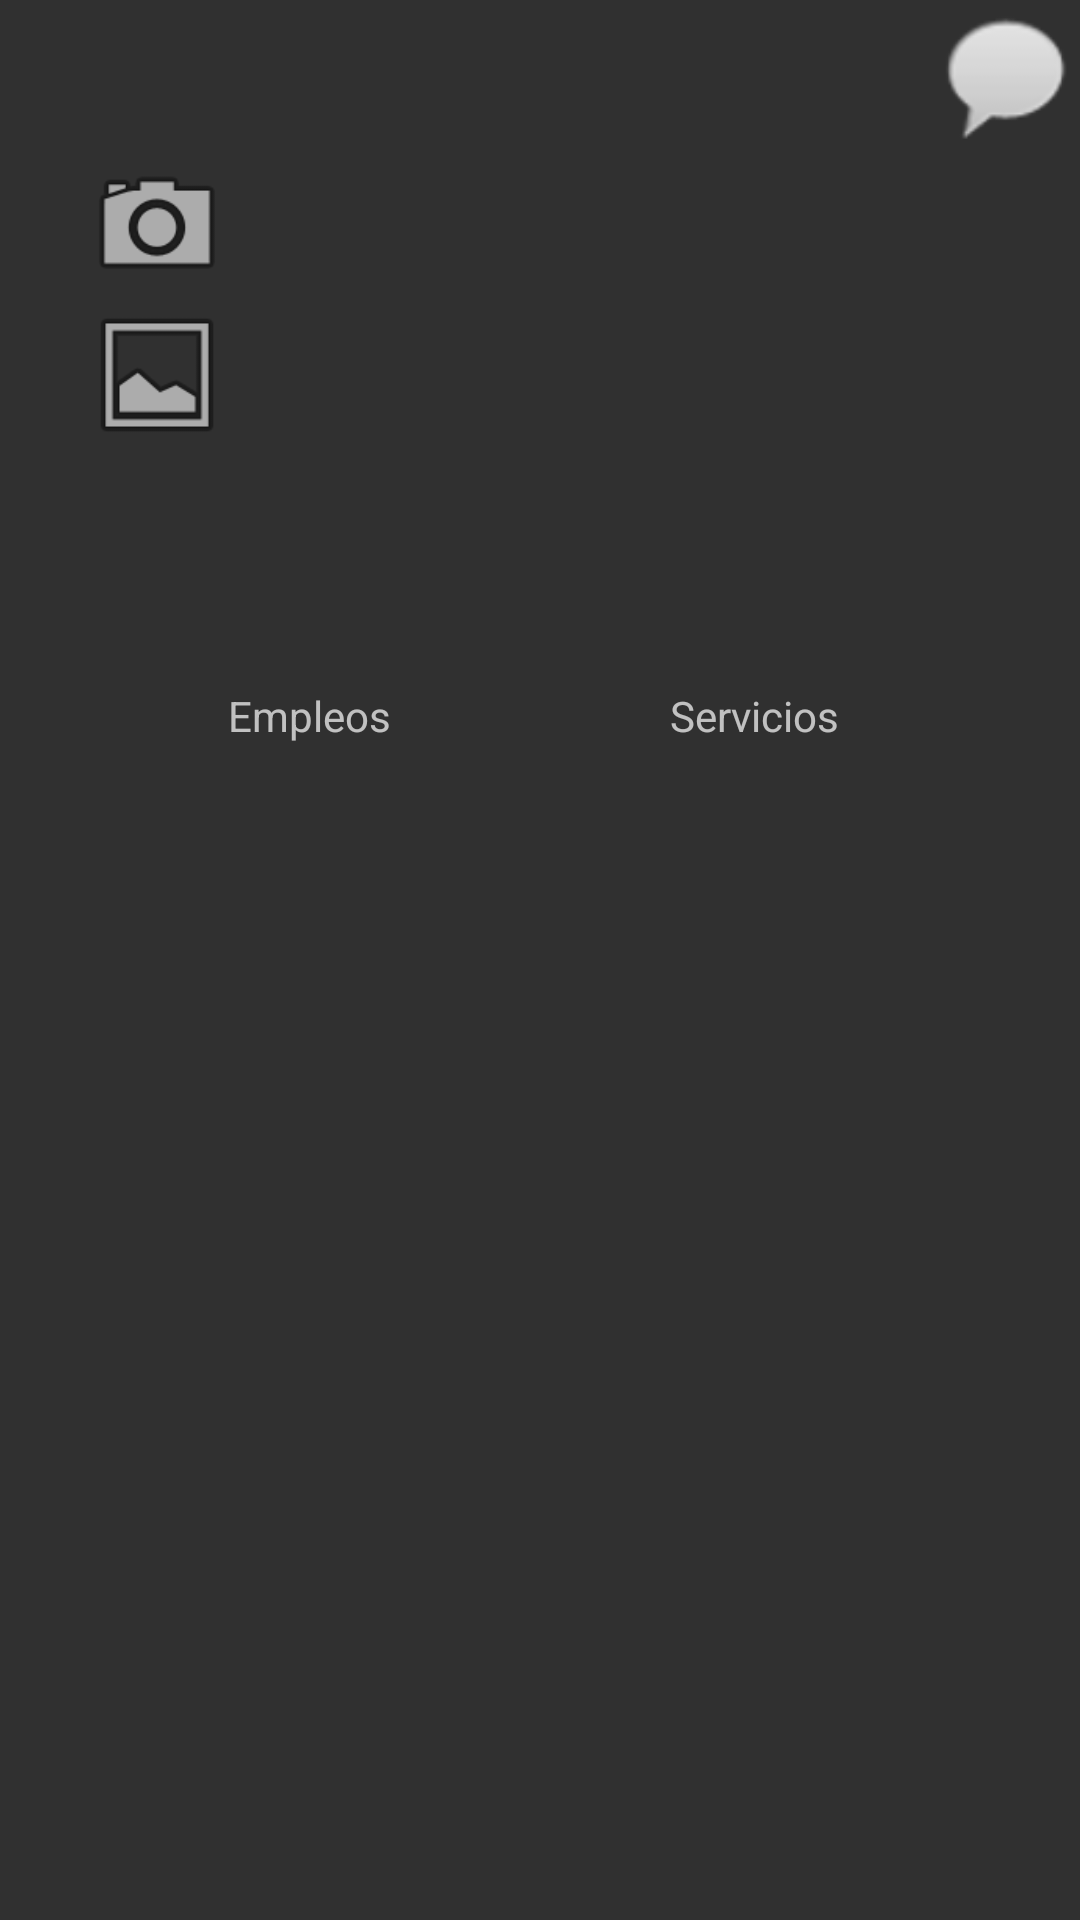

Named icons in this screenshot (1080 x 1920) and their centers, (x=x, y=y):
camera: (x=157, y=222)
gallery: (x=157, y=375)
sym action chat: (x=1006, y=79)
